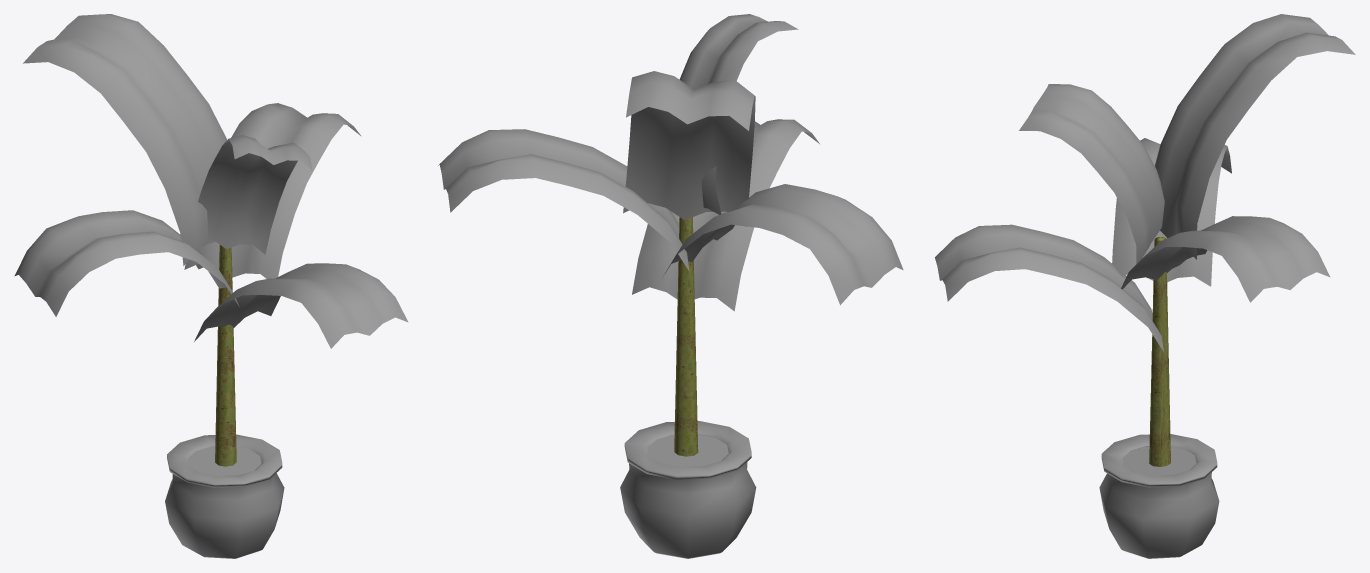
The model's file is House_Banana_leaf_lod0.fbx.
3 renders of one model, left to right at view 1: azimuth 30°, elevation 25°; view 2: azimuth 150°, elevation 25°; view 3: azimuth 270°, elevation 25°, orthographic. The views are drawn at different scales.
Visible parts, largest first — view 1: House_Banana_leaf_lod0; view 2: House_Banana_leaf_lod0; view 3: House_Banana_leaf_lod0.
Part boxes in pixels (x1=…): House_Banana_leaf_lod0: x1=14, y1=14, x2=408, y2=558; House_Banana_leaf_lod0: x1=438, y1=14, x2=903, y2=558; House_Banana_leaf_lod0: x1=935, y1=14, x2=1355, y2=558.
Bounding box in the file's own units: 112 × 142 × 112.
Materials: 3 (1 with a texture image).
